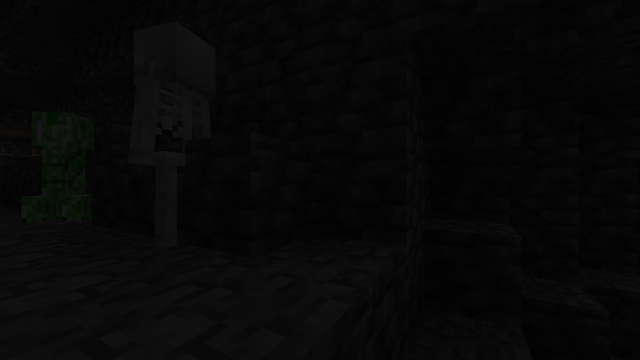creepers: (31, 103, 96, 223)
squelettes: (127, 15, 222, 254)
